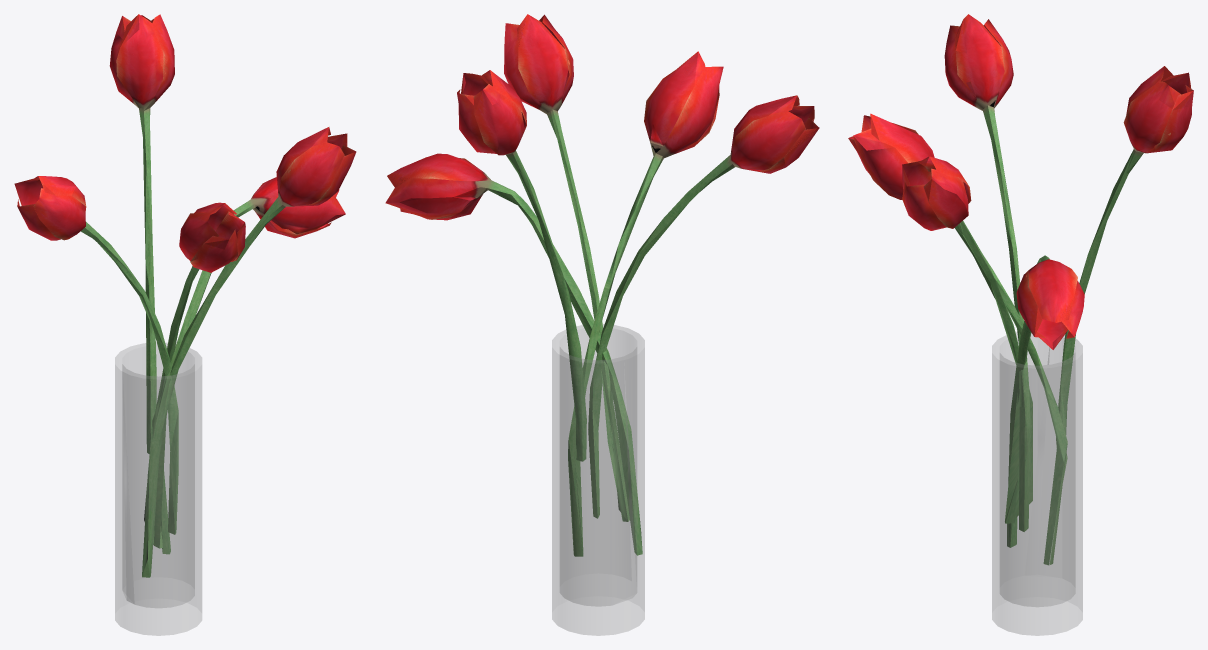
The model's file is Flower.fbx.
The picture shows the model from 3 angles, left to right: view 1: azimuth 30°, elevation 25°; view 2: azimuth 150°, elevation 25°; view 3: azimuth 270°, elevation 25°; orthographic projection. The views are drawn at different scales.
Parts seen in each view (by area): view 1: FlowerVase; view 2: FlowerVase; view 3: FlowerVase.
Boxes of the visible parts, x1,y1,x2,y2 form: FlowerVase: [14, 14, 356, 635]; FlowerVase: [385, 14, 819, 635]; FlowerVase: [848, 14, 1193, 635].
Bounding box in the file's own units: 1.38 × 1.98 × 1.09.
2 materials, 1 textured.
